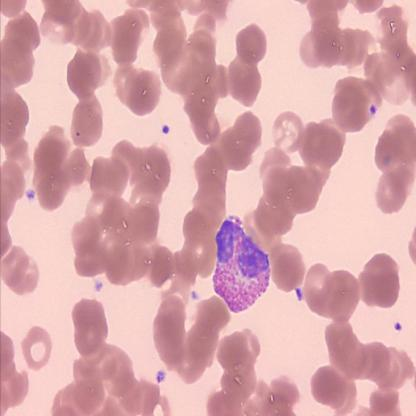Eosinophil: (210, 214, 272, 315)
